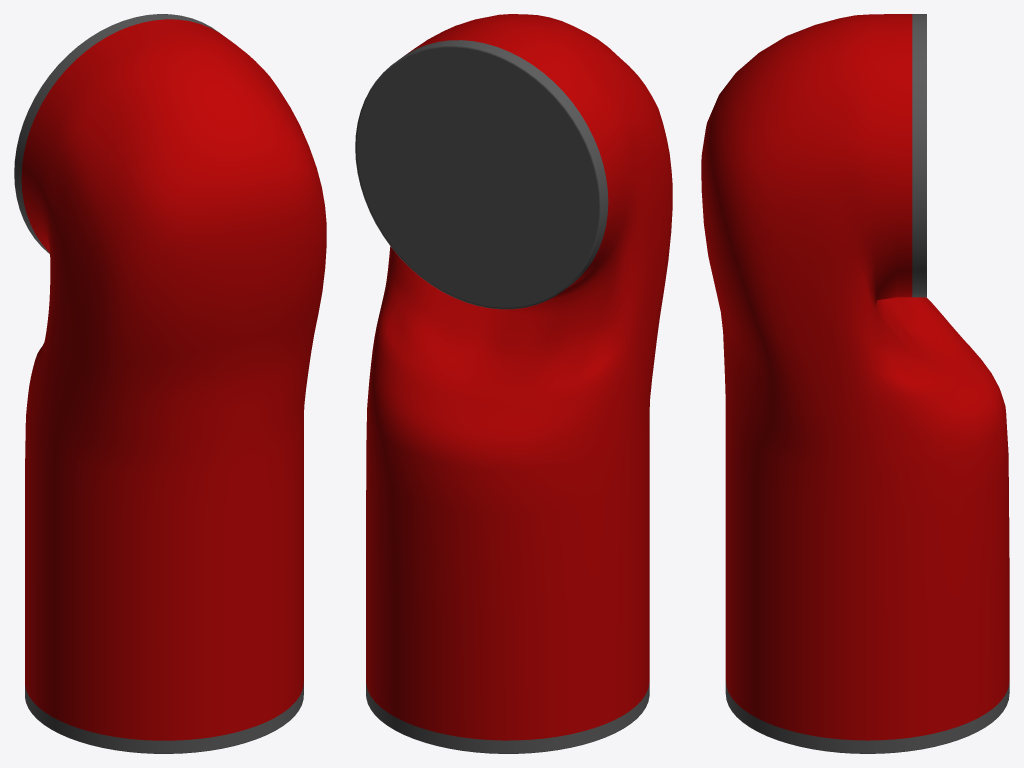
3 renders of one model, left to right at view 1: azimuth 30°, elevation 25°; view 2: azimuth 150°, elevation 25°; view 3: azimuth 270°, elevation 25°, orthographic.
Visible parts, largest first — view 1: Link01; view 2: Link01; view 3: Link01.
Boxes of the visible parts, box(x1,y1,x2,y2) form: Link01: box(14, 14, 326, 753); Link01: box(355, 14, 672, 753); Link01: box(701, 14, 1009, 753).
Size of the model in its own units: 0.0956 by 0.1037 by 0.2478.
